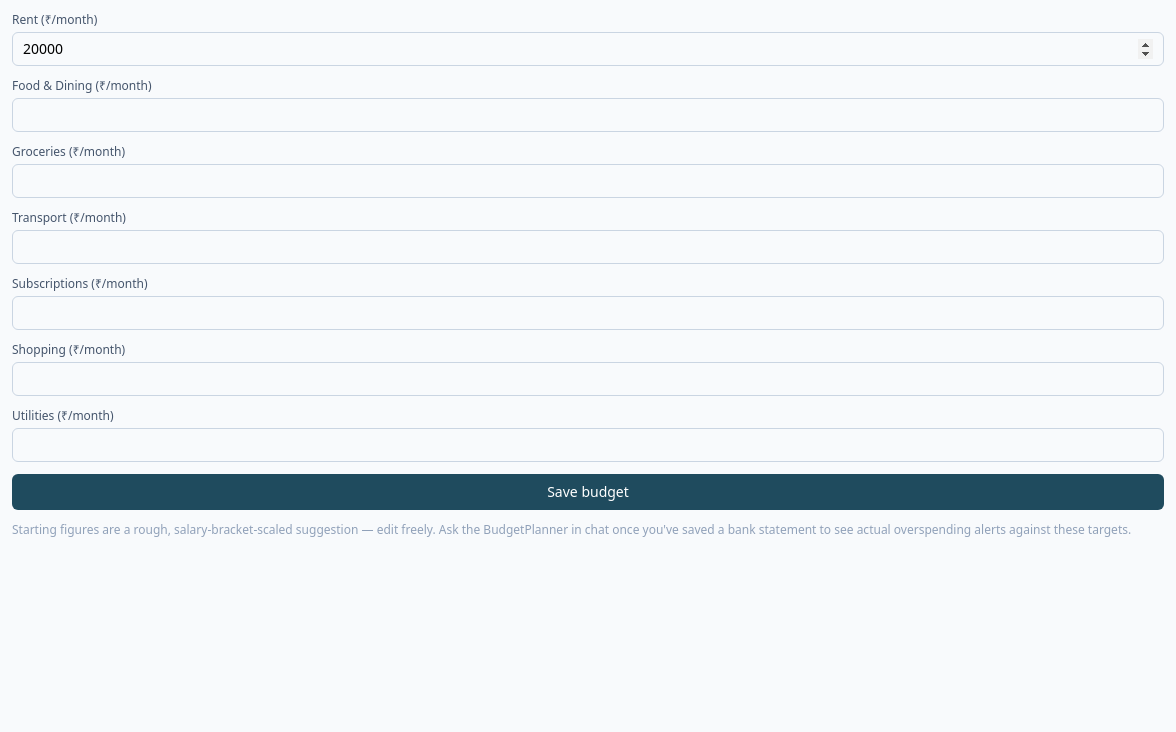
Scenario: BudgetForm › shows an error and stays editable when the save fails
Expected: the number field labelled "Rent (₹/month)" holds "20000", [12, 32, 1164, 66]
Step 1. Click the button "Save budget" → (588, 492), box [12, 474, 1164, 510]
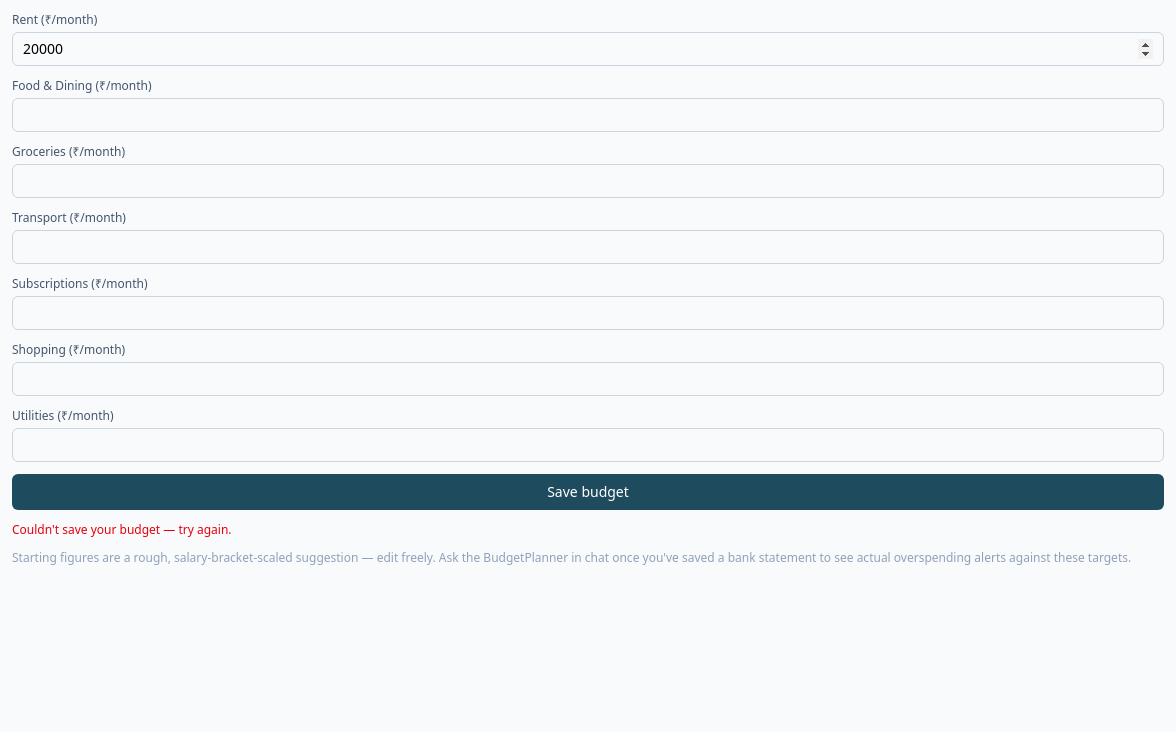
Now the text "Couldn't save your budget — try again." is shown, box [12, 521, 232, 538]
